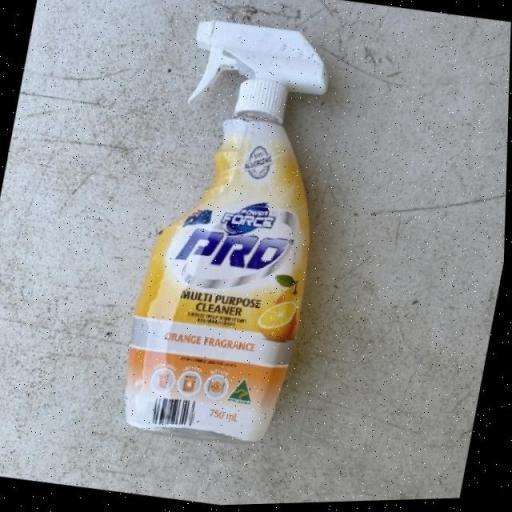plastic: (113, 11, 355, 454)
